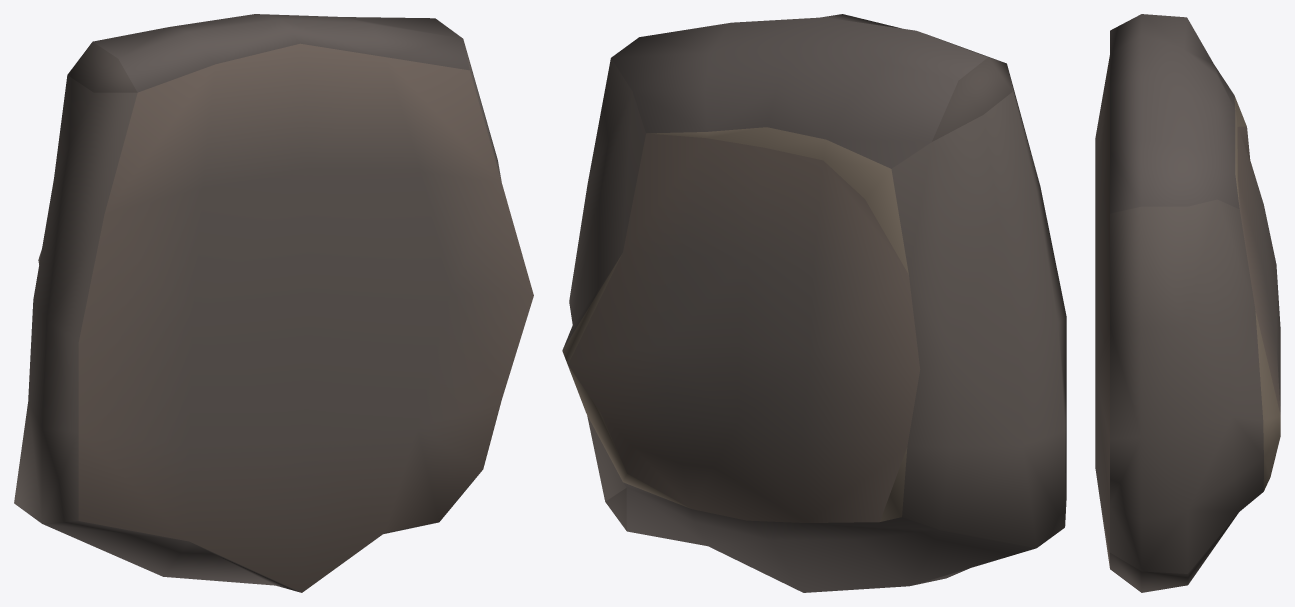
Rendered from RockSmall.003.glb.
3 renders of one model, left to right at view 1: azimuth 30°, elevation 25°; view 2: azimuth 150°, elevation 25°; view 3: azimuth 270°, elevation 25°, orthographic. The views are drawn at different scales.
Parts seen in each view (by area): view 1: RockSmall.003; view 2: RockSmall.003; view 3: RockSmall.003.
Boxes of the visible parts, x1,y1,x2,y2 form: RockSmall.003: [14, 14, 533, 592]; RockSmall.003: [562, 14, 1066, 592]; RockSmall.003: [1095, 14, 1280, 592].
Bounding box in the file's own units: 154 × 178 × 63.1.
